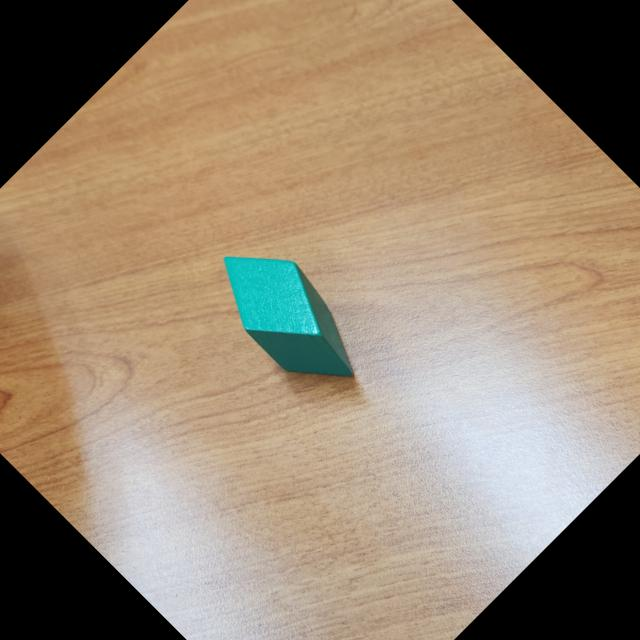green: (195, 222, 382, 410)
